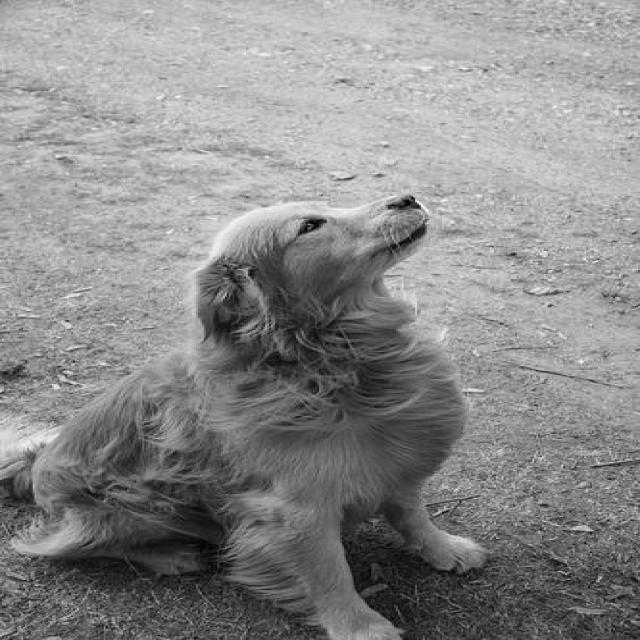sitting: (0, 187, 505, 640)
